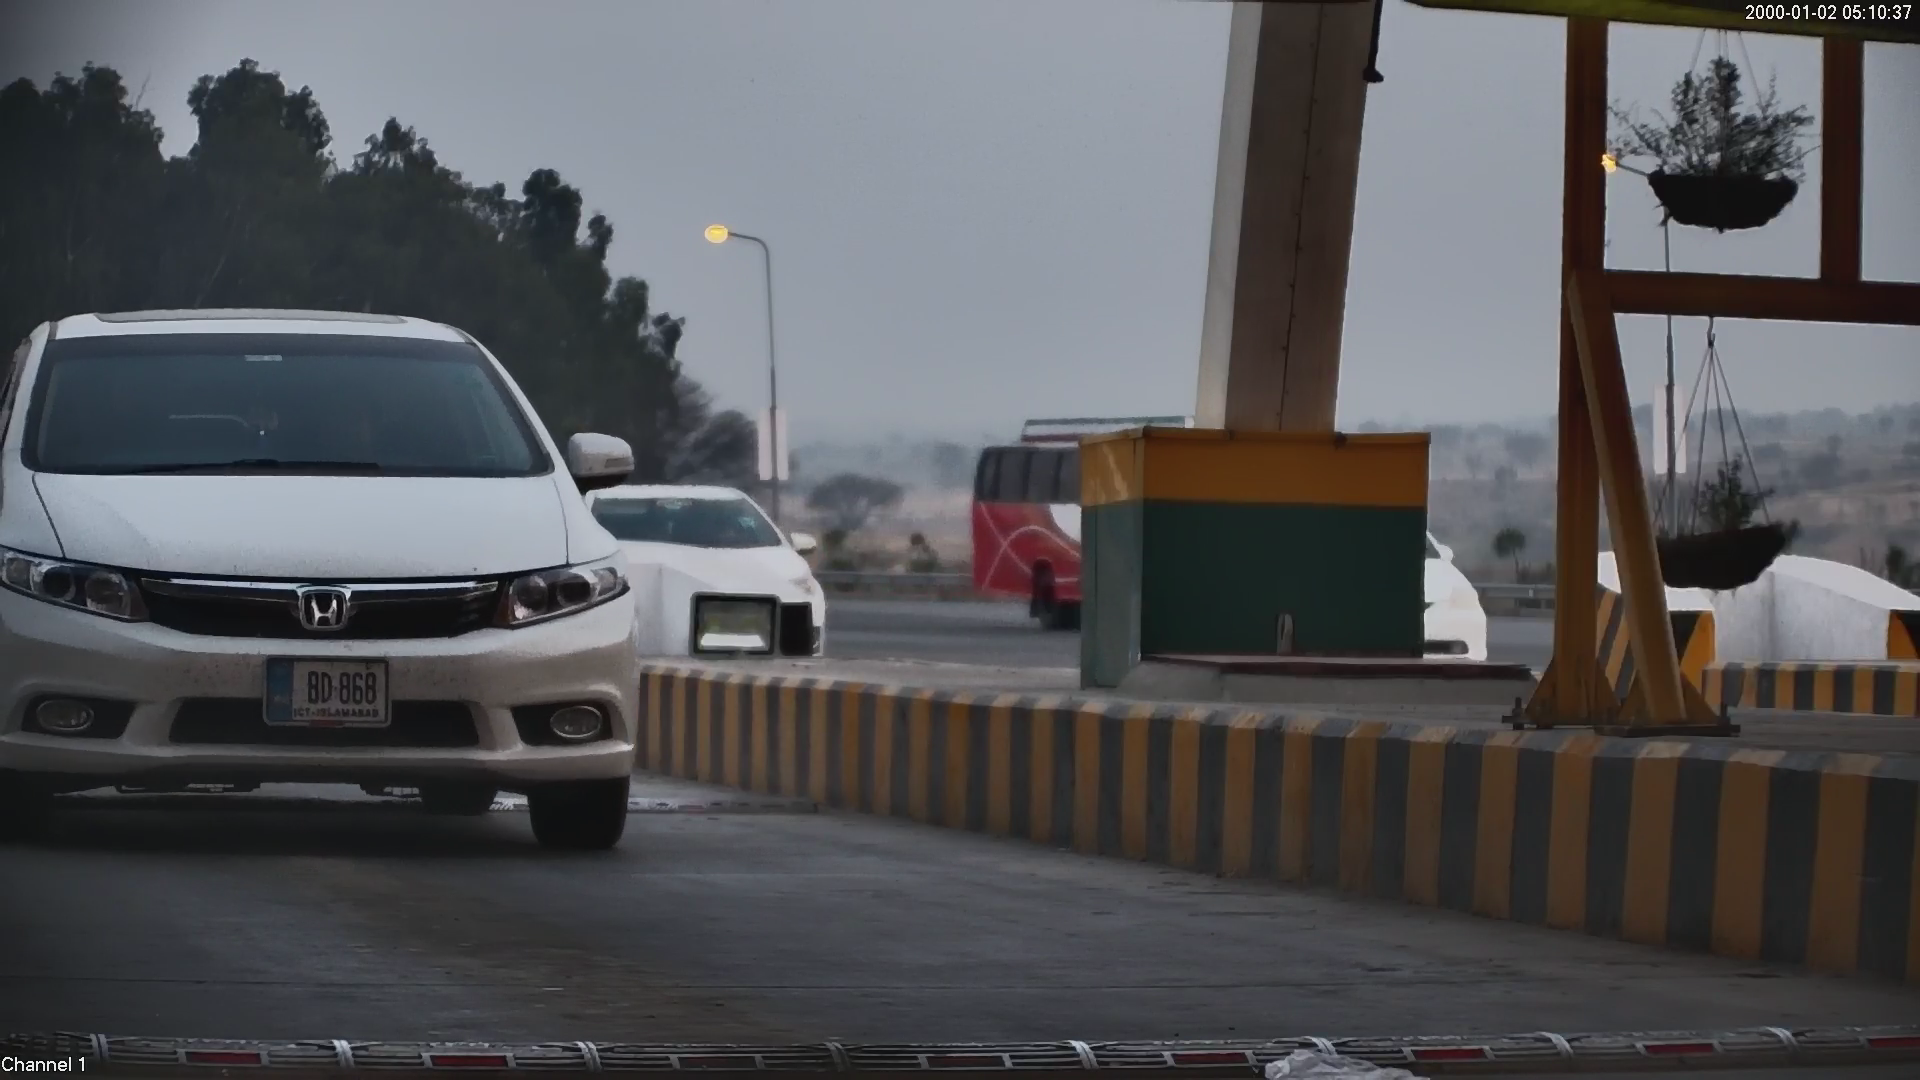Number_Plate: (254, 644, 398, 742)
